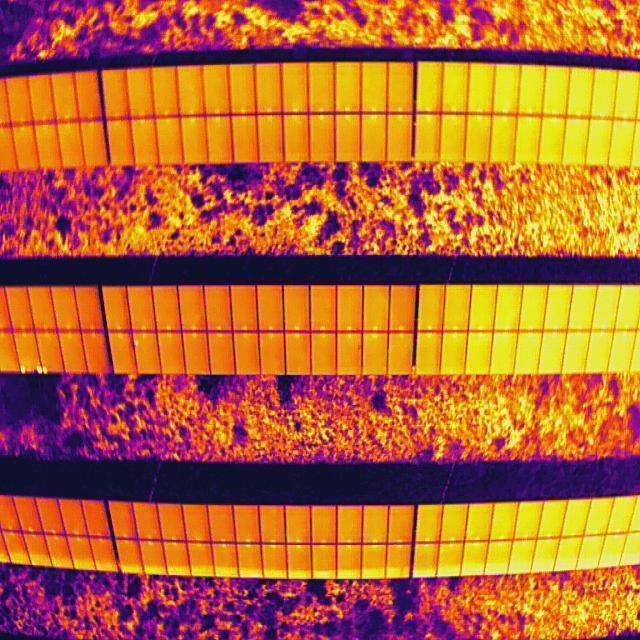hotspot: (19, 363, 43, 374), (43, 364, 50, 375)
